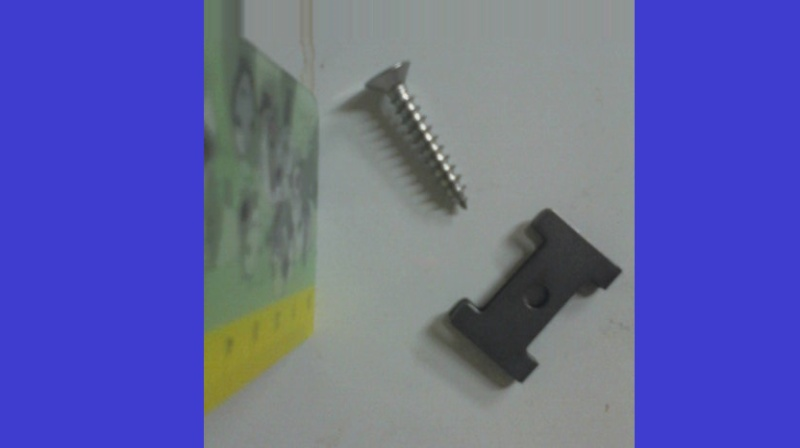O002: (444, 203, 623, 385)
S001: (357, 54, 471, 221)
